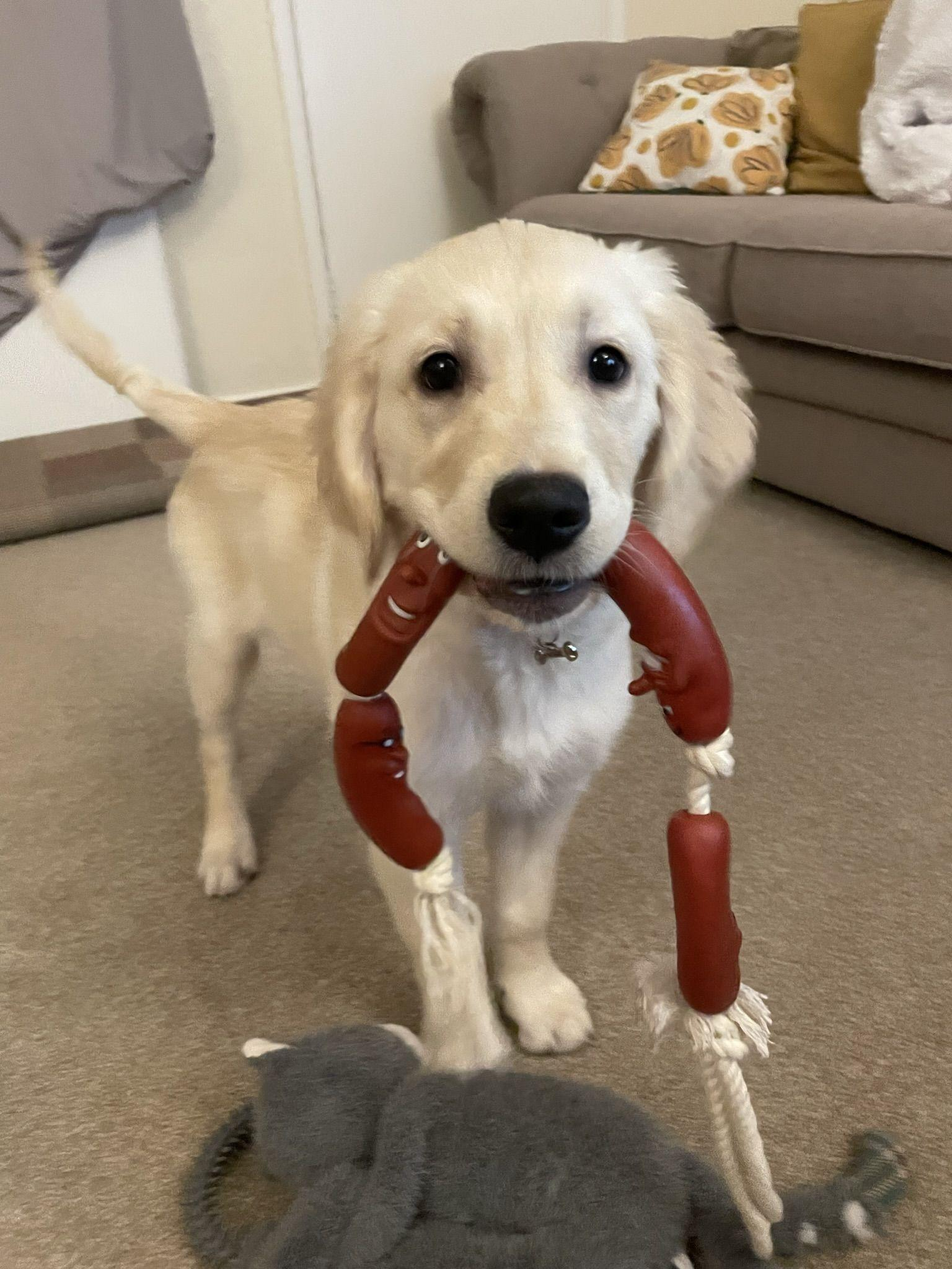puppy-dog: (14, 217, 759, 1076)
